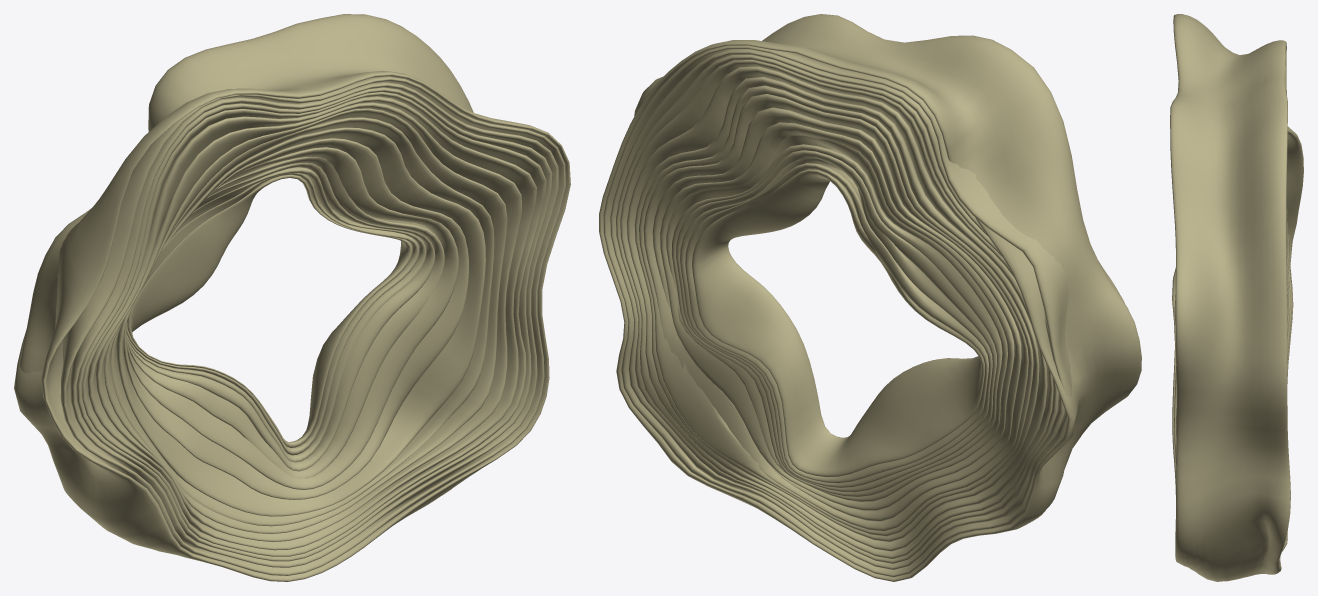
3 views of the same model, side by side, from view 1: azimuth 30°, elevation 25°; view 2: azimuth 150°, elevation 25°; view 3: azimuth 270°, elevation 25° (orthographic). The views are drawn at different scales.
Visible parts, largest first — view 1: srink_model; view 2: srink_model; view 3: srink_model.
Boxes of the visible parts, box(x1,y1,x2,y2) form: srink_model: box(14, 14, 570, 581); srink_model: box(599, 14, 1141, 581); srink_model: box(1170, 14, 1303, 581).
Bounding box in the file's own units: 2.74 × 2.6 × 0.645.
